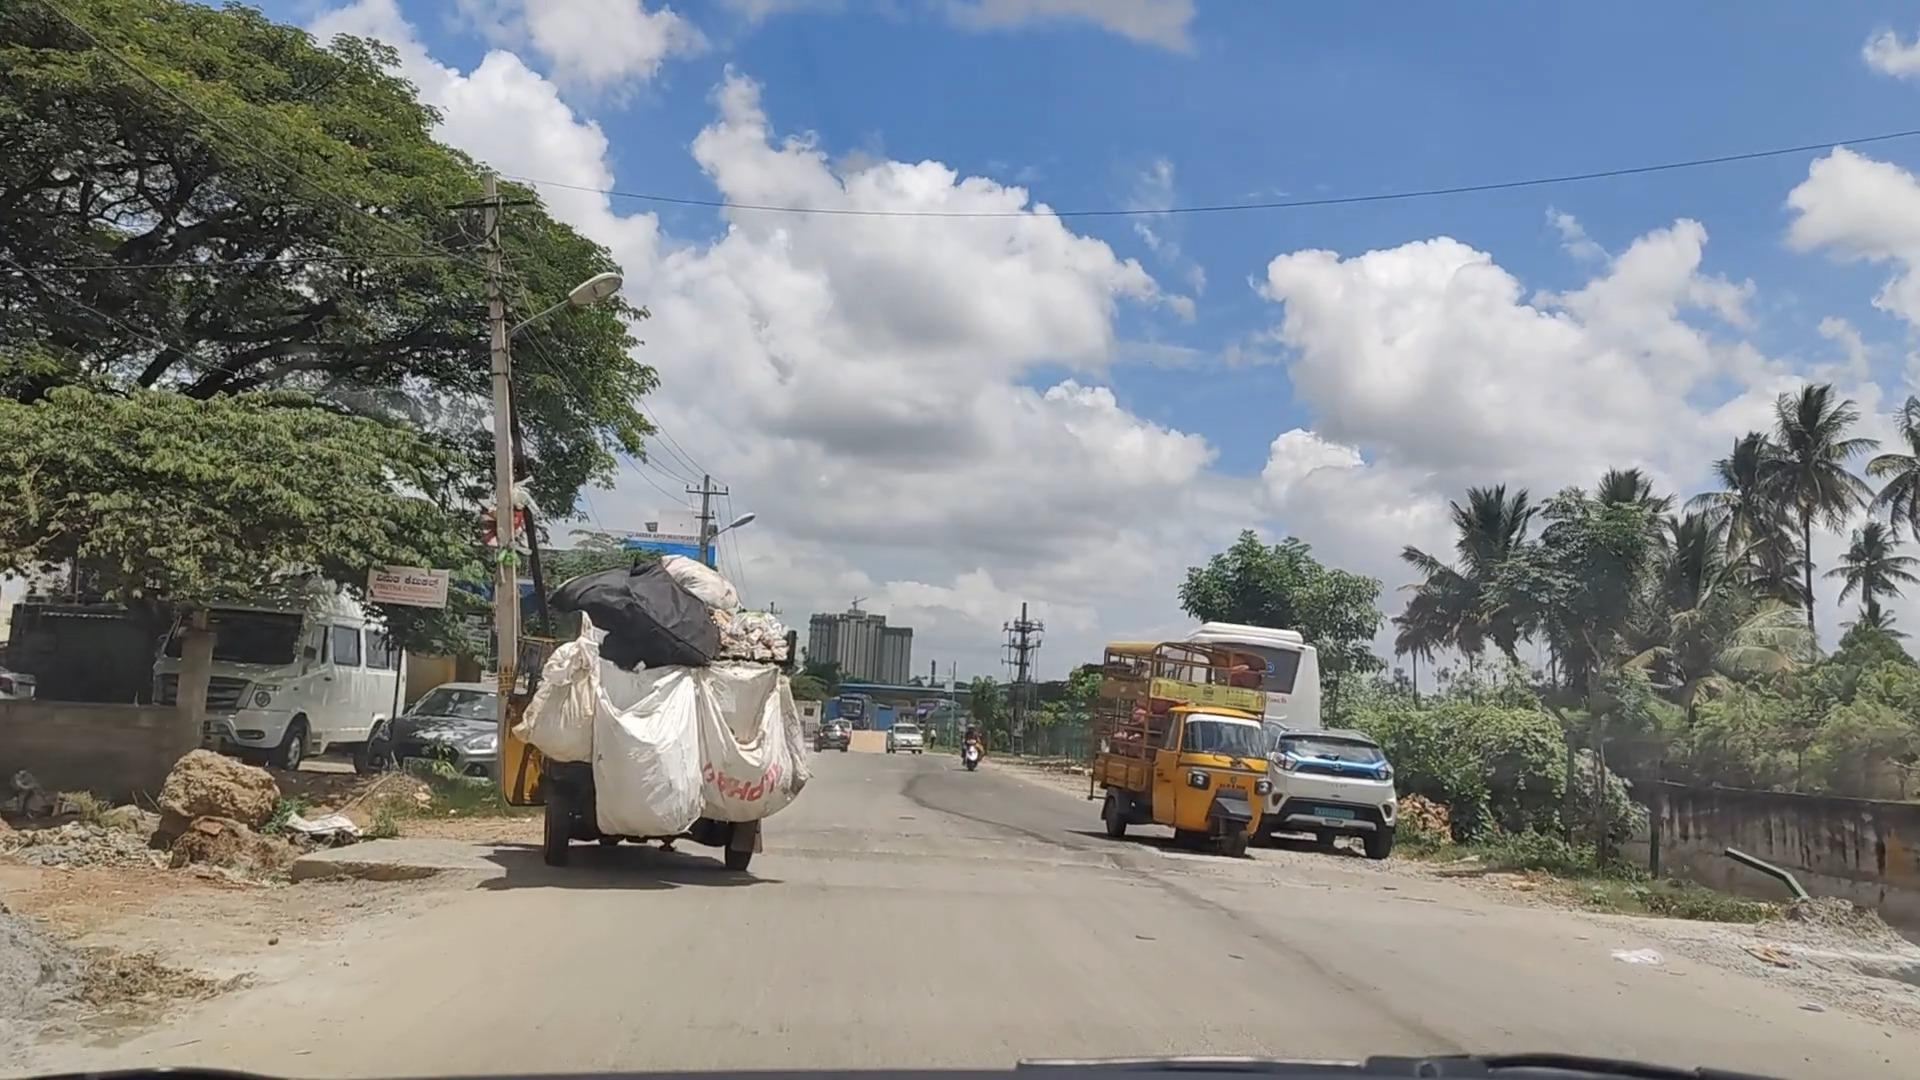HMV: (478, 553, 835, 872), (1086, 638, 1299, 882)
RoadDamages: (1120, 1008, 1325, 1062)
